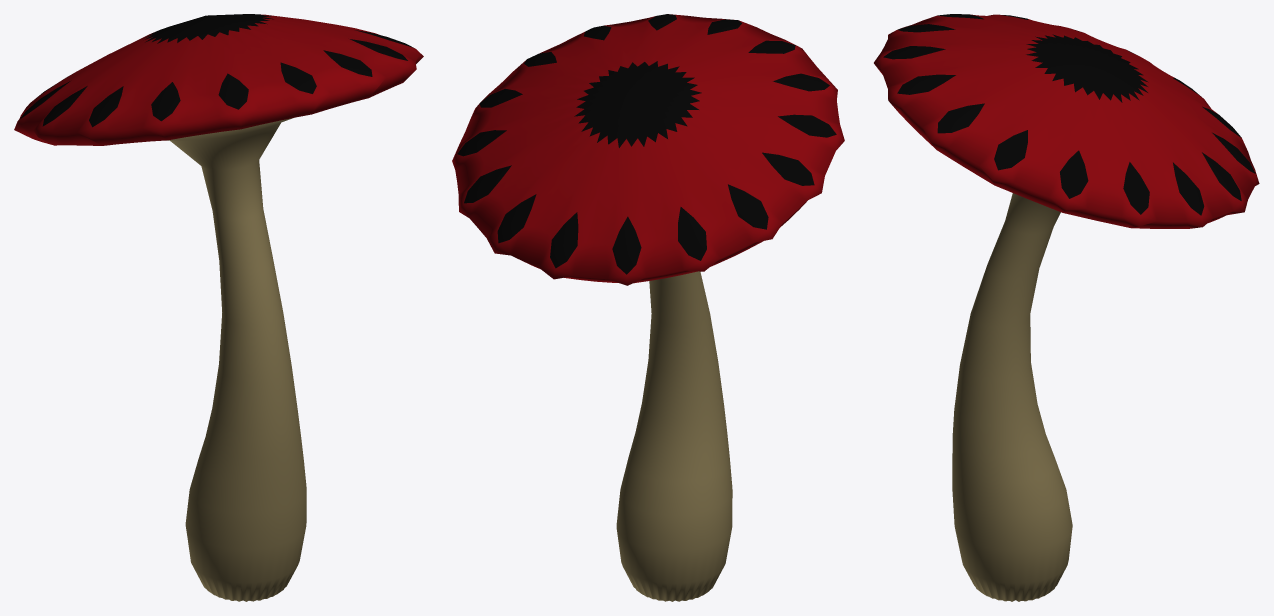
File: mushroom 4.fbx
3 renders of one model, left to right at view 1: azimuth 30°, elevation 25°; view 2: azimuth 150°, elevation 25°; view 3: azimuth 270°, elevation 25°, orthographic. The views are drawn at different scales.
Visible parts, largest first — view 1: Circle; view 2: Circle; view 3: Circle.
Part boxes in pixels (x1,y1,x2,y2): Circle: [14, 14, 423, 601]; Circle: [452, 14, 844, 601]; Circle: [874, 14, 1259, 601].
Bounding box in the file's own units: 242 × 361 × 229.
